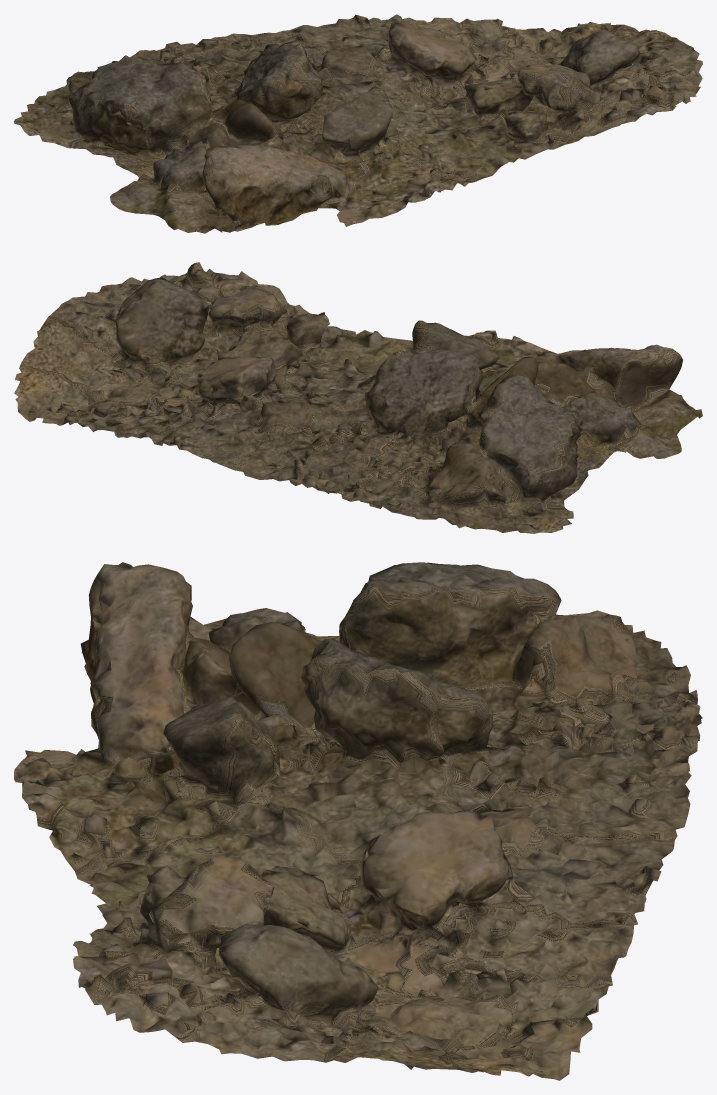
Rendered from coast_land_rocks_03_lod1.glb.
The picture shows the model from 3 angles, top to bottom: view 1: azimuth 30°, elevation 25°; view 2: azimuth 150°, elevation 25°; view 3: azimuth 270°, elevation 25°; orthographic projection. The views are drawn at different scales.
Parts seen in each view (by area): view 1: coast_land_rocks_03; view 2: coast_land_rocks_03; view 3: coast_land_rocks_03.
Boxes of the visible parts, box(x1,y1,x2,y2) form: coast_land_rocks_03: box(14, 14, 702, 233); coast_land_rocks_03: box(14, 262, 702, 533); coast_land_rocks_03: box(14, 562, 702, 1080).
Bounding box in the file's own units: 8.97 × 1.52 × 5.63.
Materials: 1 (1 with a texture image).
